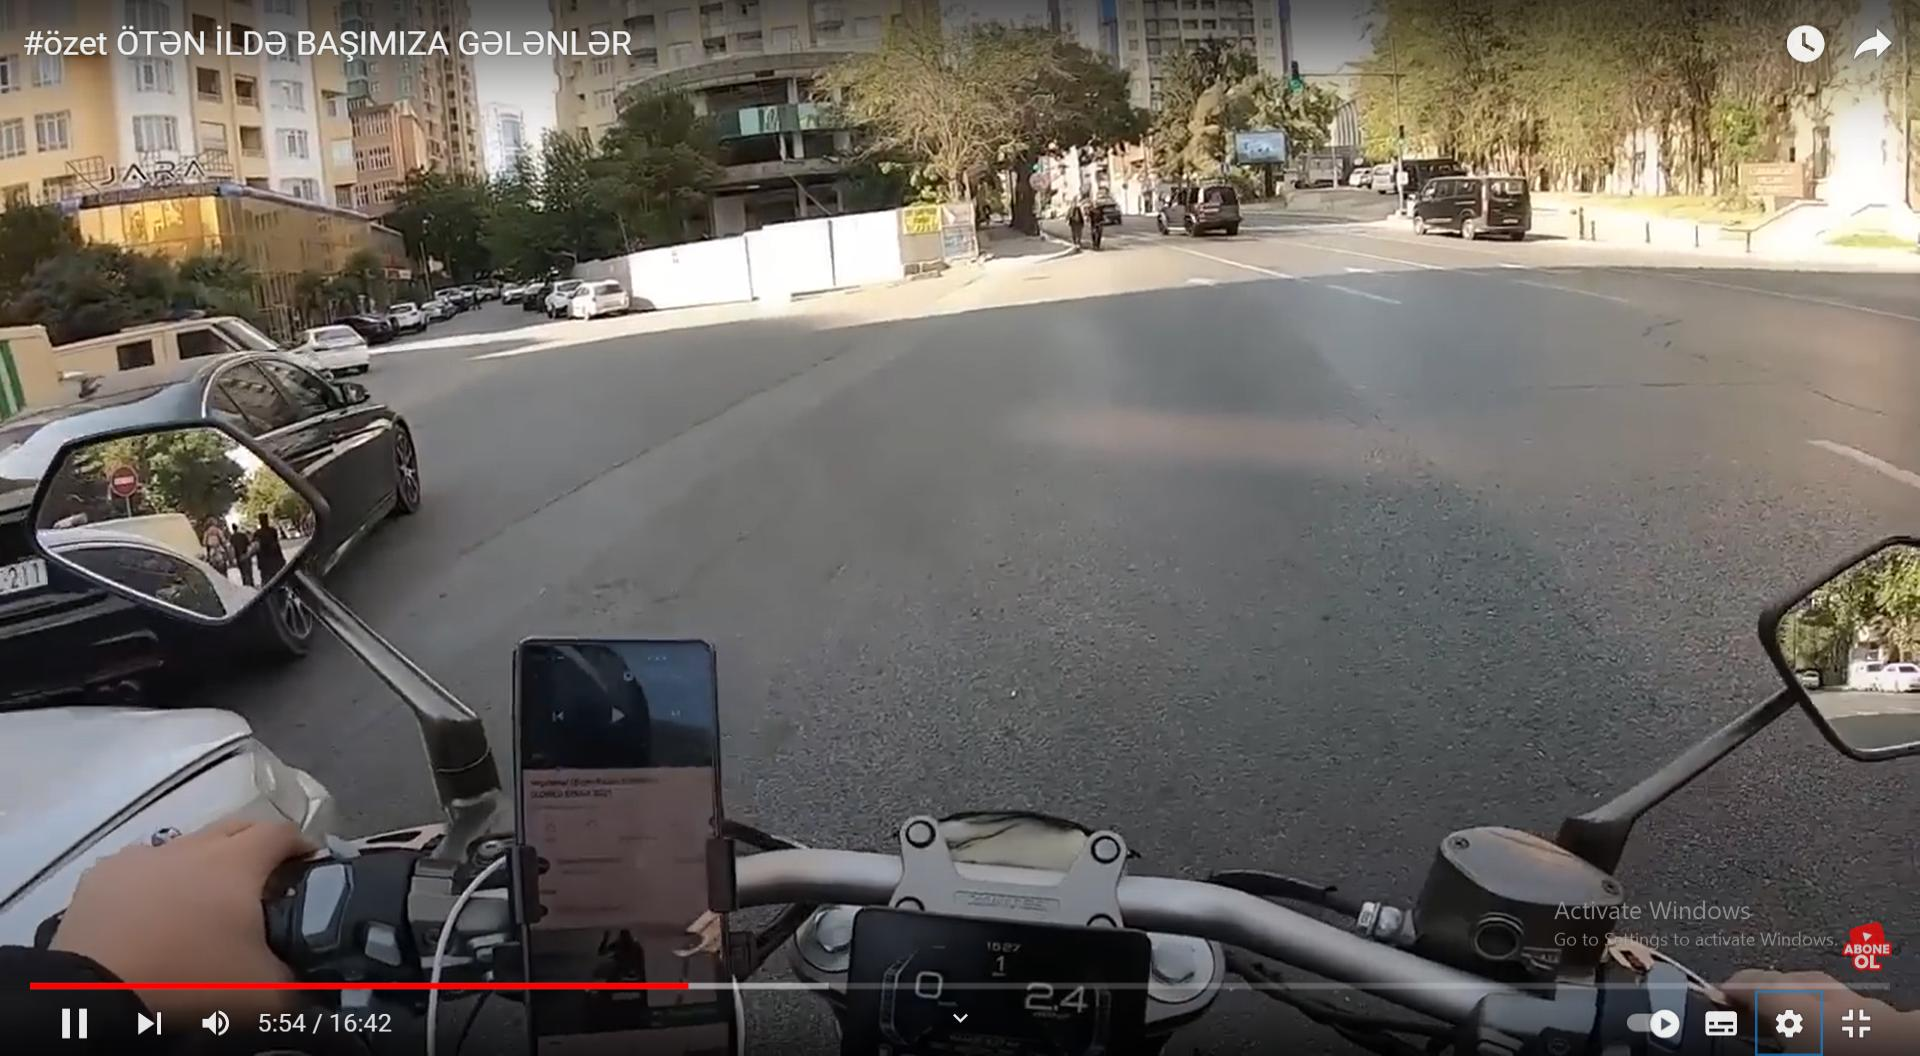banner: (1236, 133, 1285, 162)
